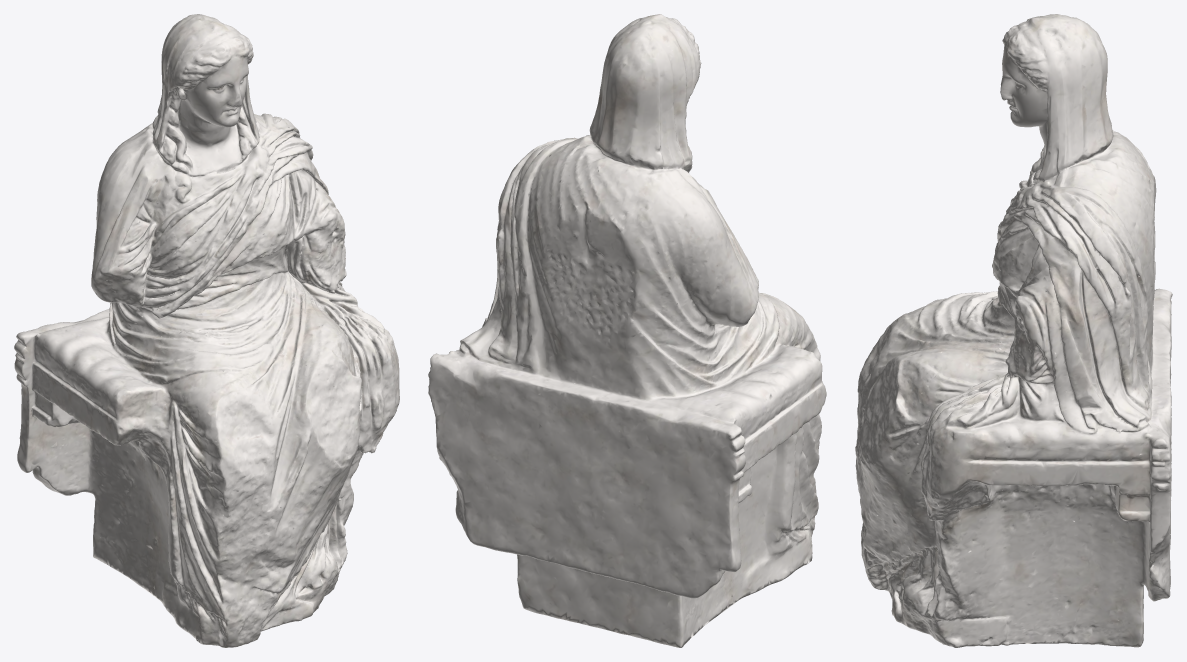
Rendered from demeter_of_knidos.glb.
3 views of the same model, side by side, from view 1: azimuth 30°, elevation 25°; view 2: azimuth 150°, elevation 25°; view 3: azimuth 270°, elevation 25° (orthographic). The views are drawn at different scales.
Parts seen in each view (by area): view 1: Object_2; view 2: Object_2; view 3: Object_2.
Boxes of the visible parts, x1,y1,x2,y2 form: Object_2: [14, 14, 399, 647]; Object_2: [428, 14, 826, 647]; Object_2: [855, 14, 1172, 647].
Size of the model in its own units: 0.8284 by 1.47 by 0.7193.
1 material, 1 textured.
